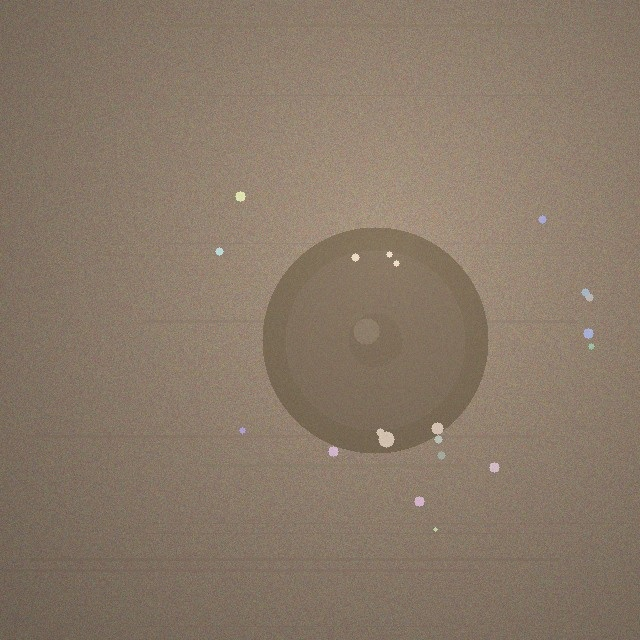overburn: (262, 227, 488, 453)
